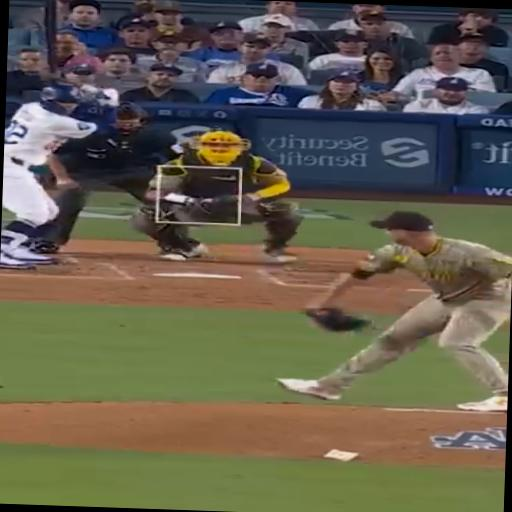bat: (11, 61, 98, 97)
